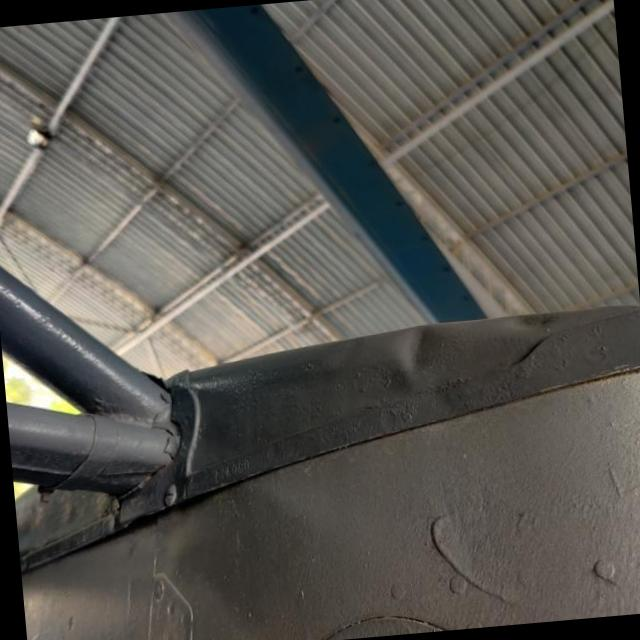Dent: (381, 323, 456, 386), (502, 313, 564, 339)
